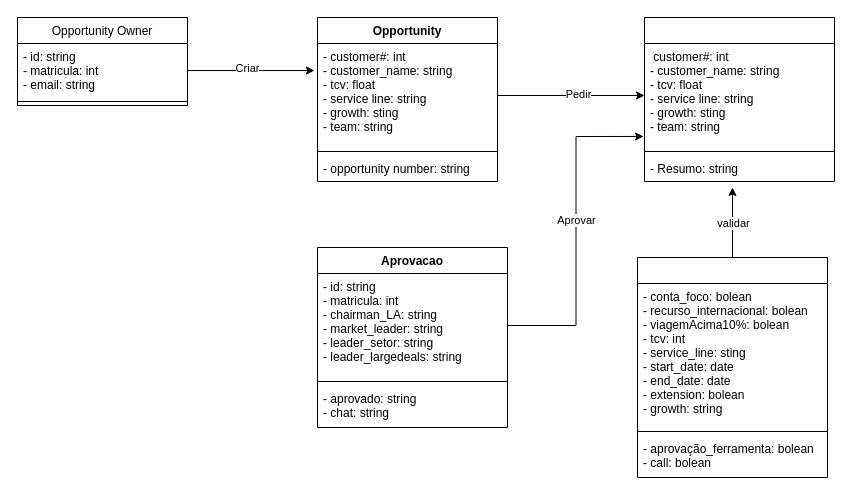
Some shapes in this 852 by 498 pixel diagram are drawn without their labels. The box of each missing label's shape, as (x1, y1, x2, y2) in pixels:
DB1: (644, 16, 834, 182)
Validacao: (636, 256, 828, 478)
